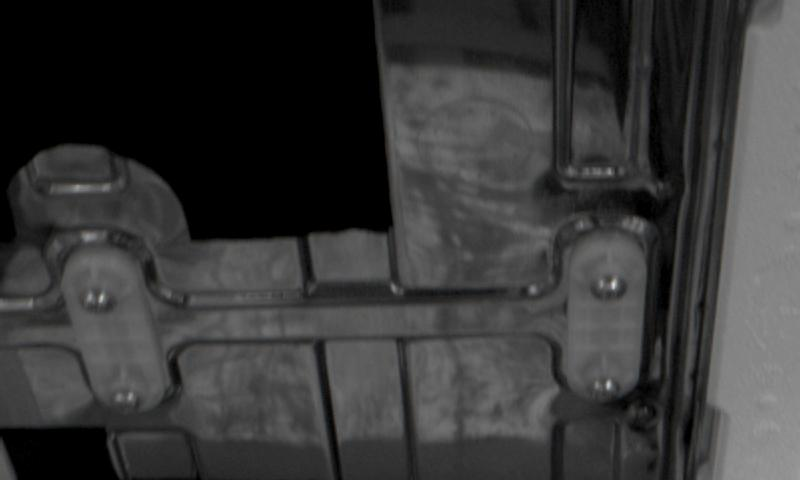vida-ok: (588, 263, 635, 307), (75, 282, 121, 326), (585, 370, 631, 409), (107, 381, 152, 420)
